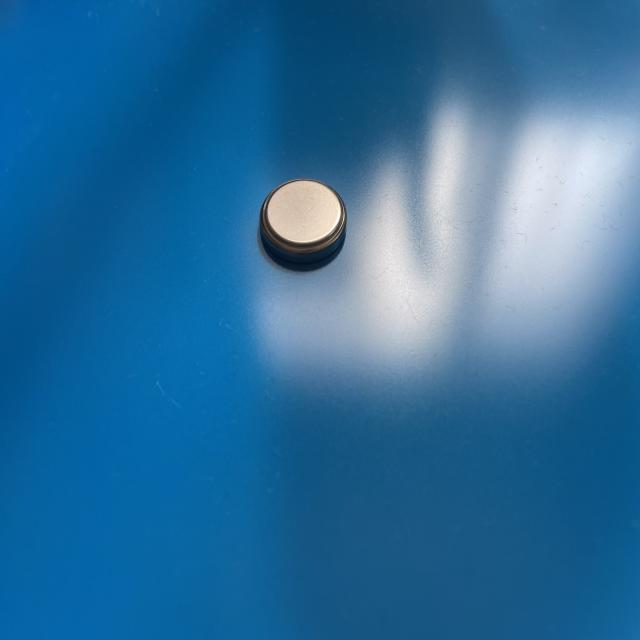COIN: (258, 178, 352, 268)
